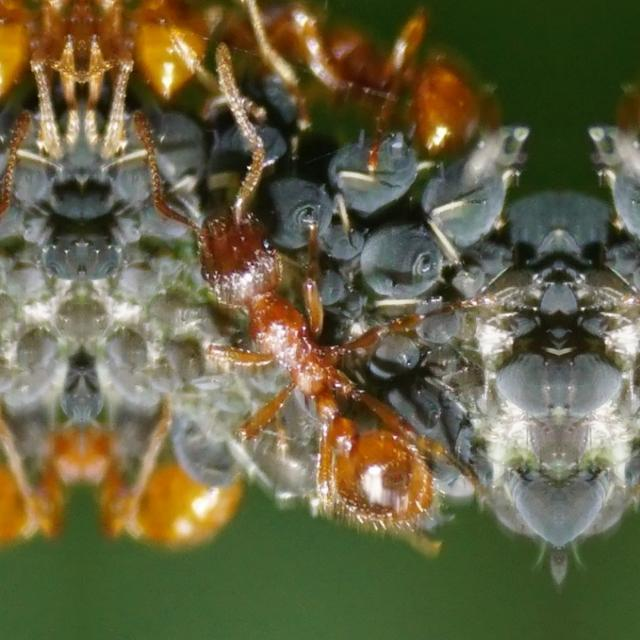Myrmica: (140, 112, 484, 550), (264, 0, 518, 146), (80, 0, 286, 152), (0, 0, 80, 152)
